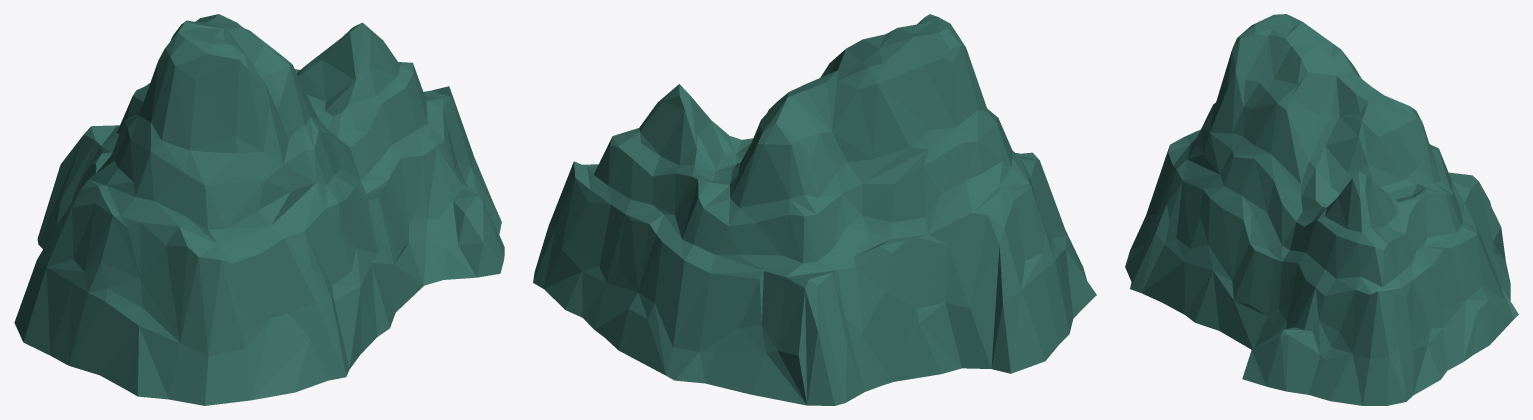
The model's file is 小山体.fbx.
3 views of the same model, side by side, from view 1: azimuth 30°, elevation 25°; view 2: azimuth 150°, elevation 25°; view 3: azimuth 270°, elevation 25° (orthographic). The views are drawn at different scales.
Parts seen in each view (by area): view 1: 山体1; view 2: 山体1; view 3: 山体1.
Part boxes in pixels (x1,y1,x2,y2): 山体1: (14, 14, 504, 405); 山体1: (533, 14, 1096, 405); 山体1: (1125, 14, 1518, 405).
Bounding box in the file's own units: 800 × 455 × 663.
